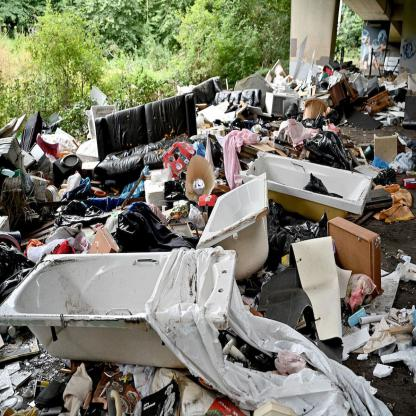Garbage: (1, 91, 411, 416)
